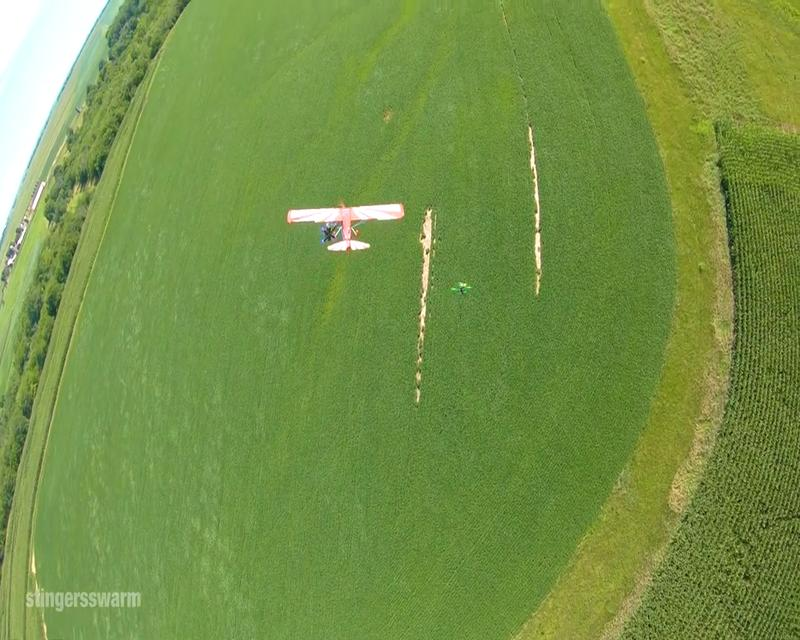UAV: (288, 201, 405, 252)
